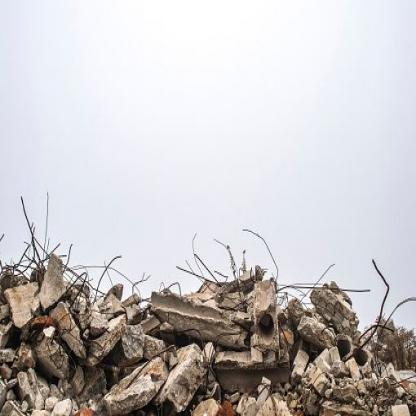rebar: (2, 191, 159, 308), (174, 223, 371, 315), (159, 318, 281, 402), (341, 252, 415, 370), (128, 344, 179, 391), (157, 275, 189, 305)
